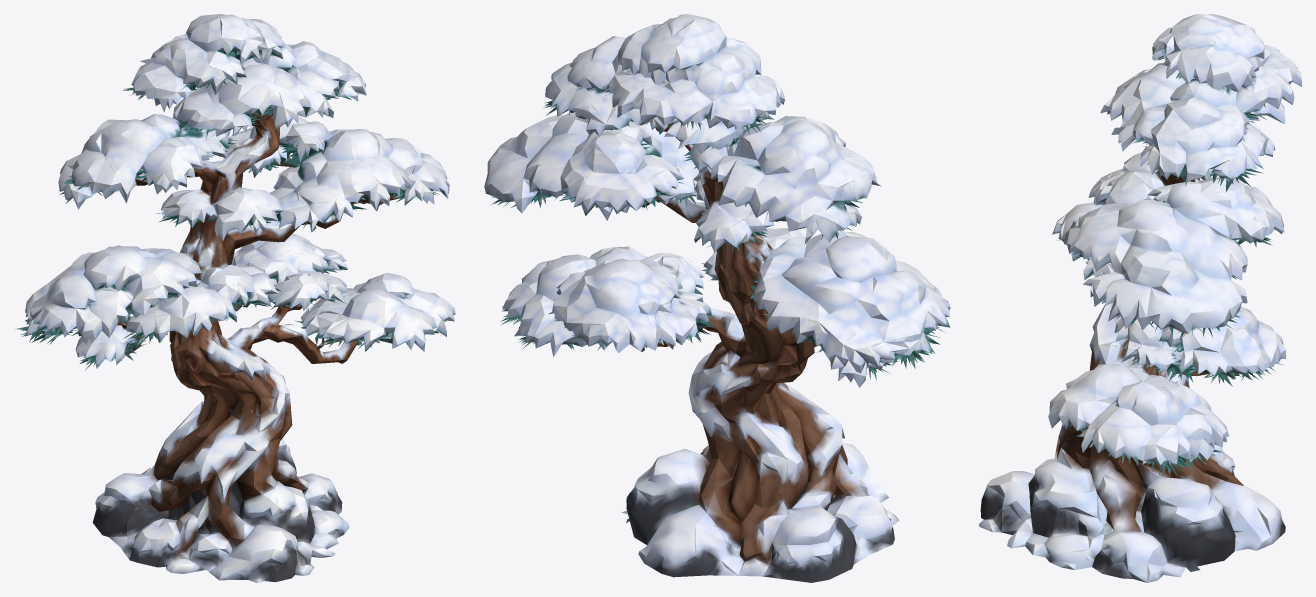
Rendered from pine_snow.glb.
The picture shows the model from 3 angles, left to right: view 1: azimuth 30°, elevation 25°; view 2: azimuth 150°, elevation 25°; view 3: azimuth 270°, elevation 25°; orthographic projection. The views are drawn at different scales.
Visible parts, largest first — view 1: output_unwrapped; view 2: output_unwrapped; view 3: output_unwrapped.
Boxes of the visible parts, left/top/right/bottom form: output_unwrapped: left=15, top=14, right=455, bottom=582; output_unwrapped: left=484, top=14, right=950, bottom=582; output_unwrapped: left=979, top=14, right=1301, bottom=582.
Size of the model in its own units: 1.72 by 1.9 by 1.07.
1 material, 1 textured.
